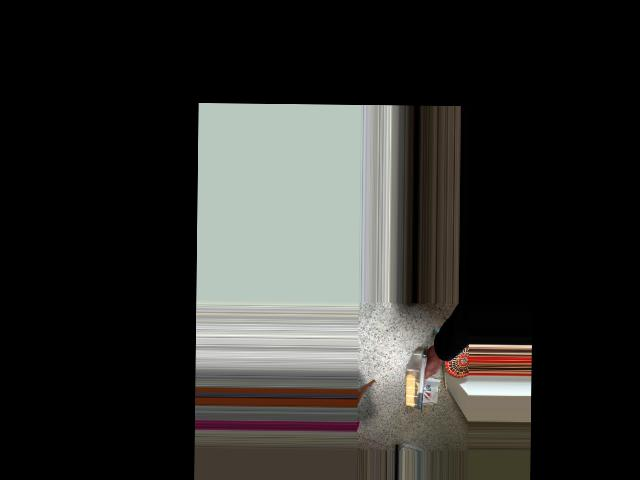cheese: (397, 349, 439, 410)
